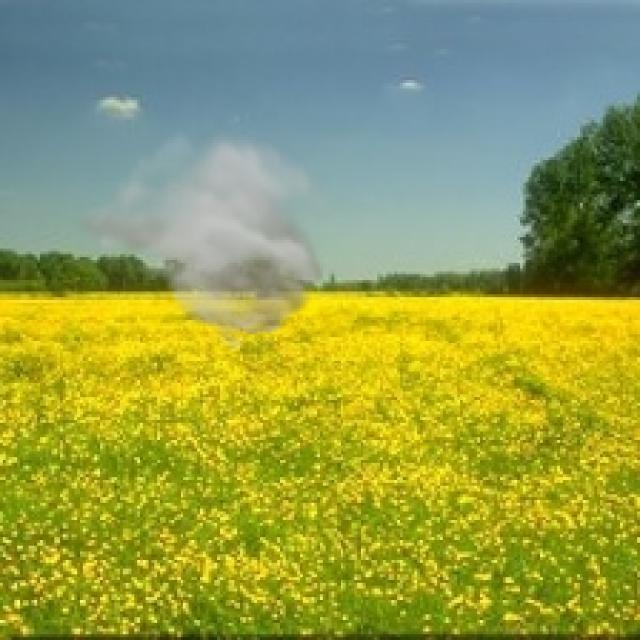Smoke: (69, 126, 348, 354)
